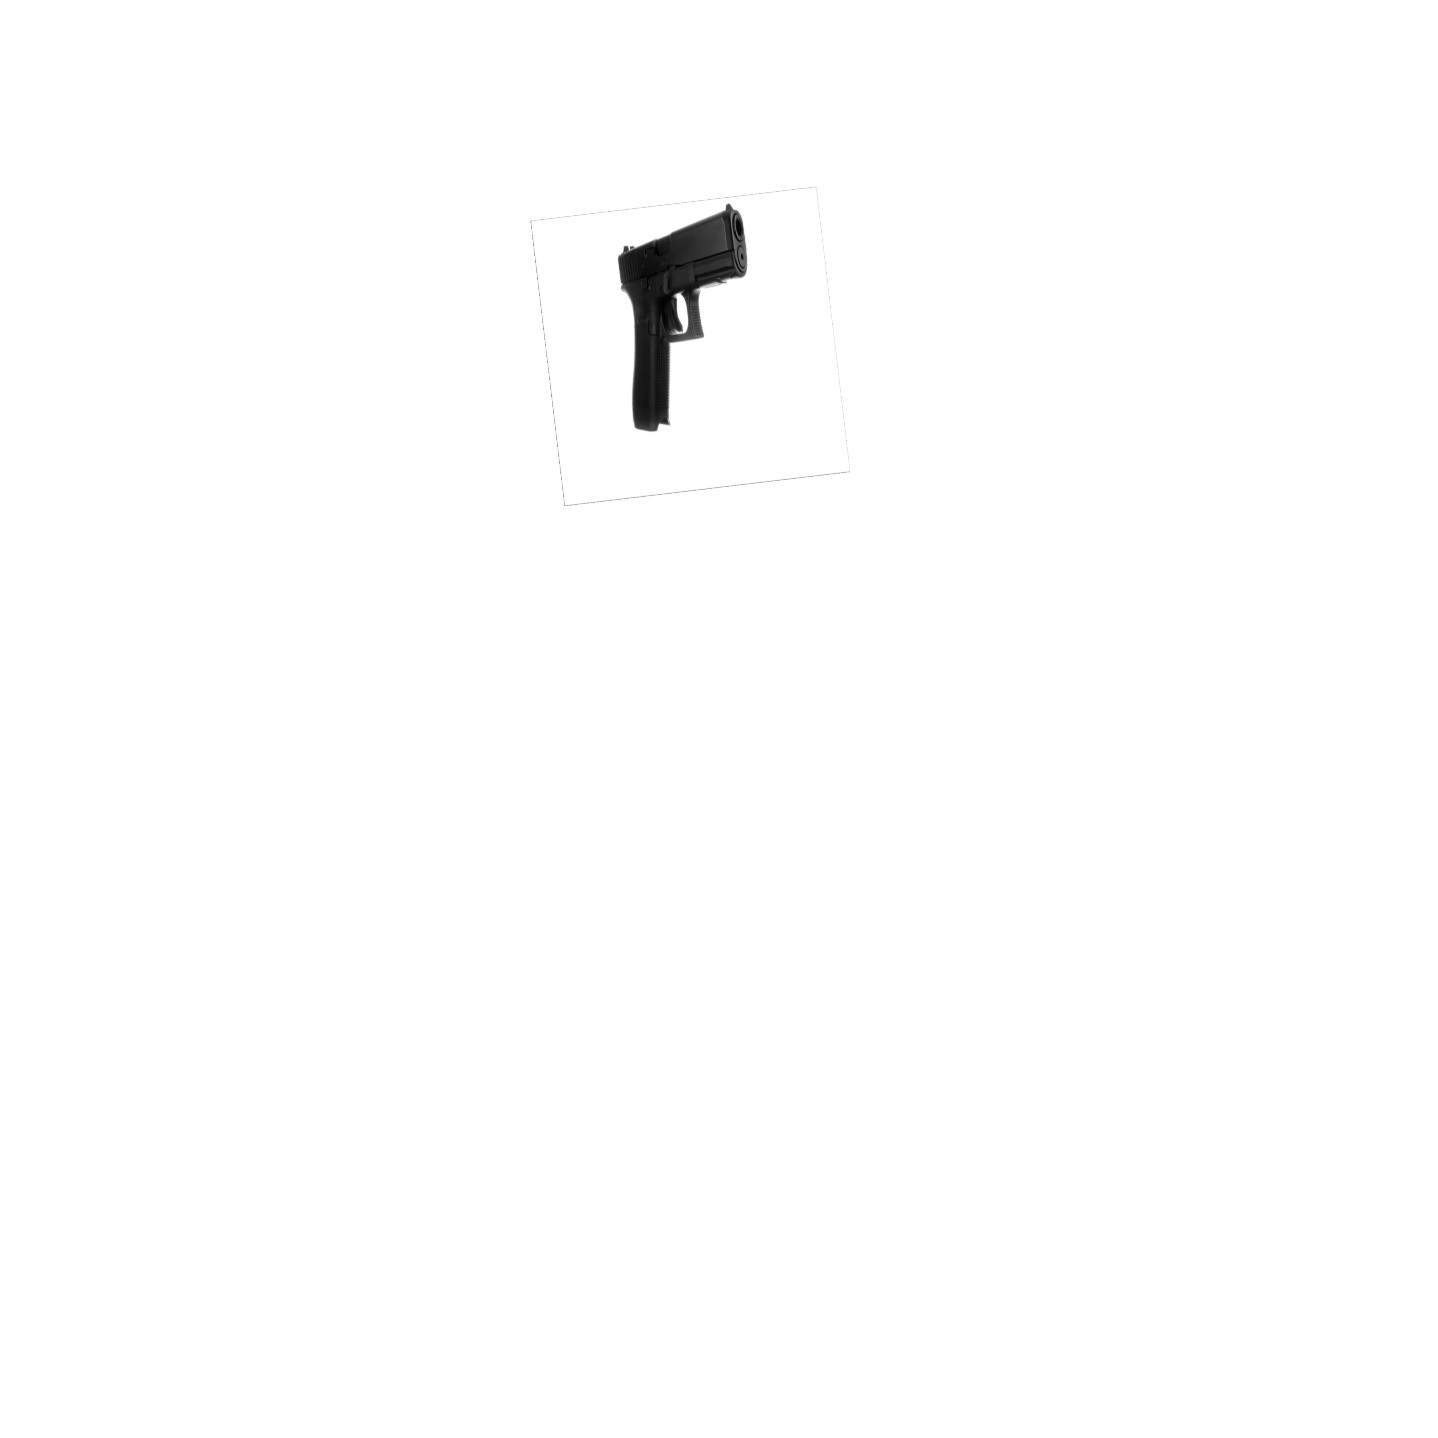gun: (611, 194, 756, 440)
